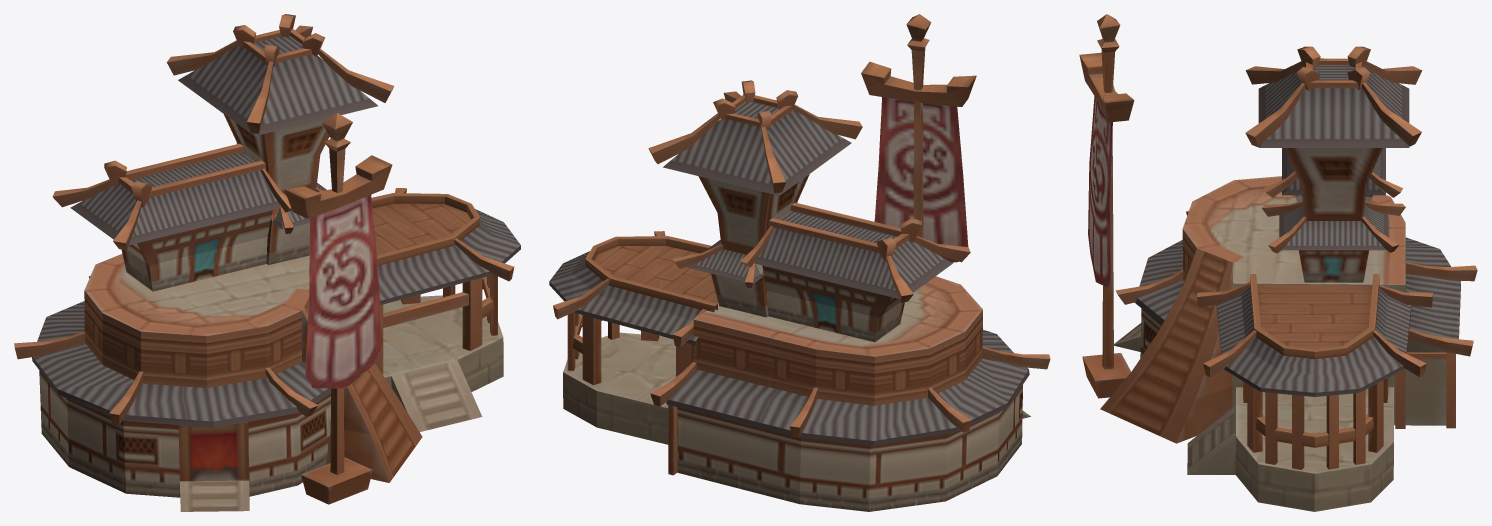
3 renders of one model, left to right at view 1: azimuth 30°, elevation 25°; view 2: azimuth 150°, elevation 25°; view 3: azimuth 270°, elevation 25°, orthographic. The views are drawn at different scales.
Visible parts, largest first — view 1: aa, Object01; view 2: aa, Object01; view 3: aa, Object01.
Part boxes in pixels (box(x1,y1,x2,y2)): aa: box(14, 14, 520, 511); Object01: box(284, 113, 392, 504); aa: box(549, 80, 1050, 511); Object01: box(861, 14, 976, 262); aa: box(1100, 46, 1477, 511); Object01: box(1079, 14, 1134, 398).
Size of the model in its own units: 97.79 by 76.85 by 74.55.
